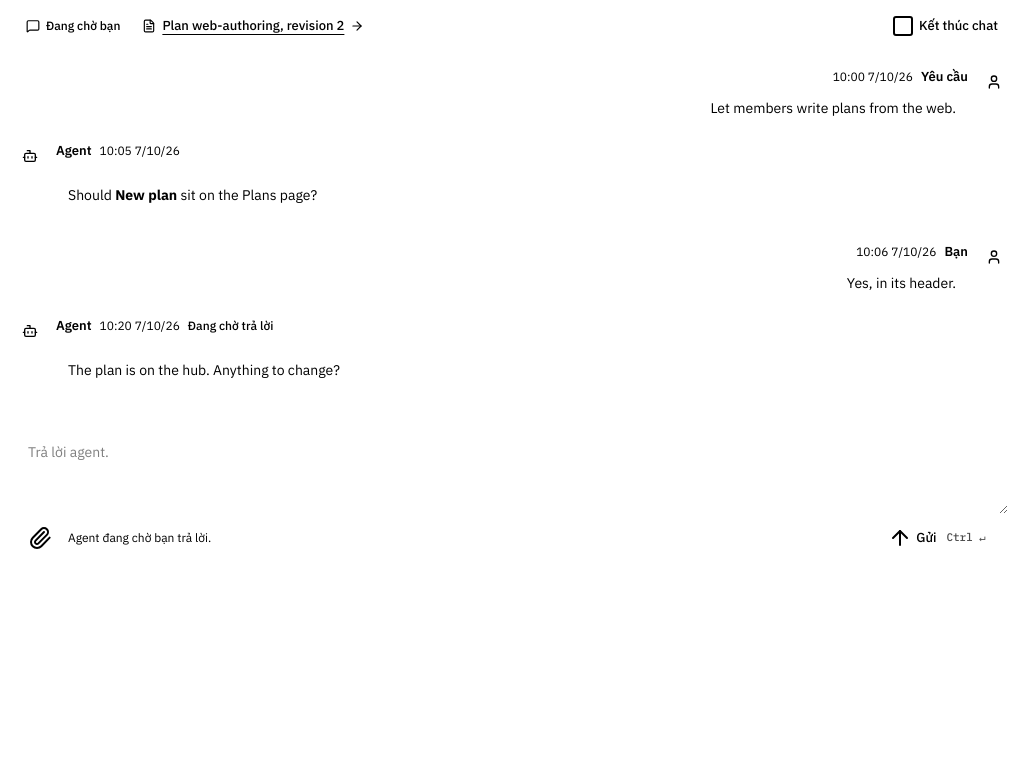
Test: RunChatPanel › ends the chat once the owner confirms, on the run that takes its next message
Click the button with test id "run-chat-end": (944, 26) top-left (881, 12), bottom-right (1008, 40)
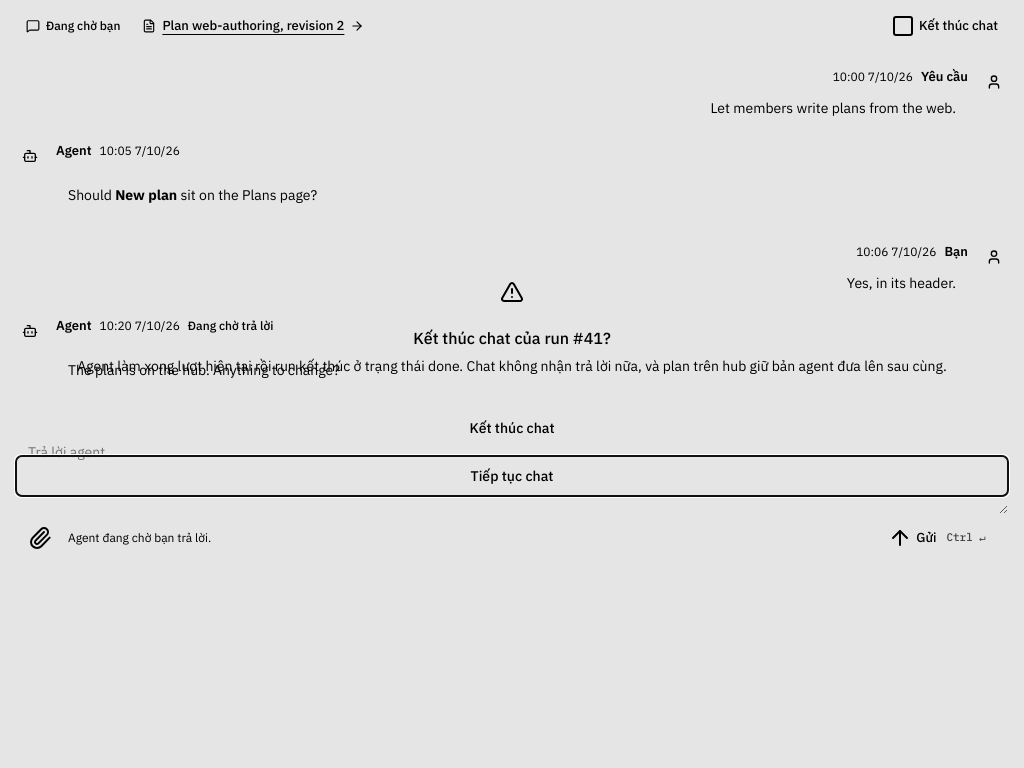
expect the dialog with test id "run-chat-end-dialog" shows "Agent làm xong lượt hiện tại rồi run kết thúc ở trạng thái done.": met, box top-left (77, 357), bottom-right (947, 375)
Click the button with test id "run-chat-end-dialog-confirm": (512, 428) top-left (16, 408), bottom-right (1008, 448)
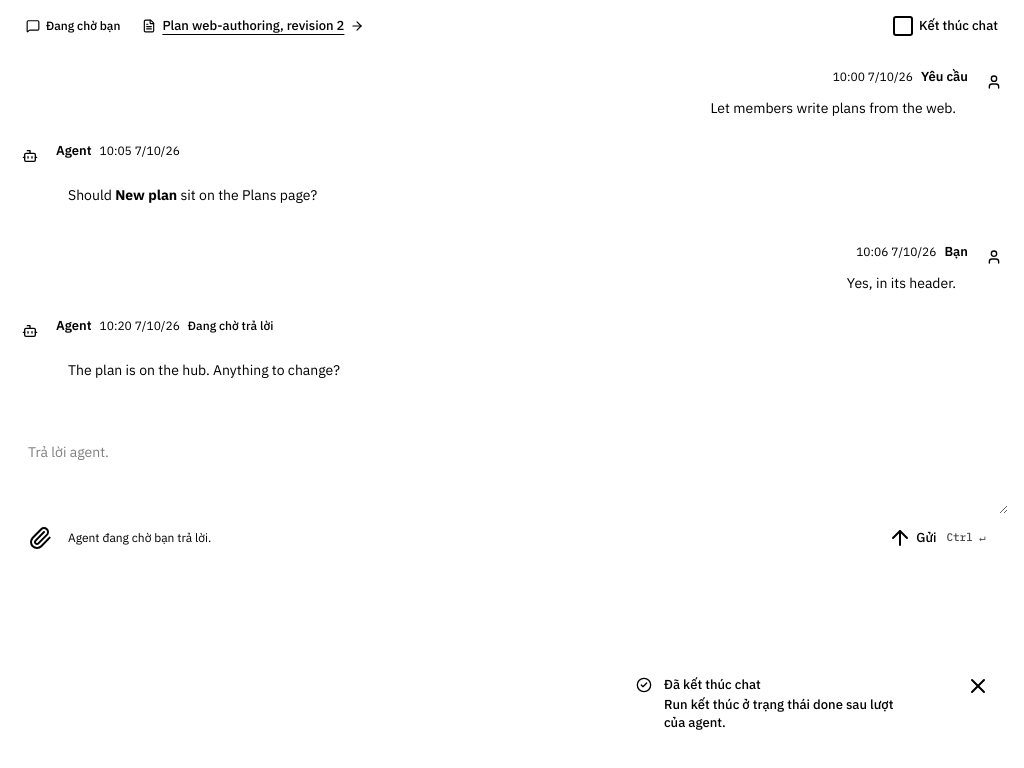
expect the dialog with test id "run-chat-end-dialog" is gone: met
expect the text "Run kết thúc ở trạng thái done sau lượt của agent." is shown: met, box top-left (664, 696), bottom-right (893, 731)
